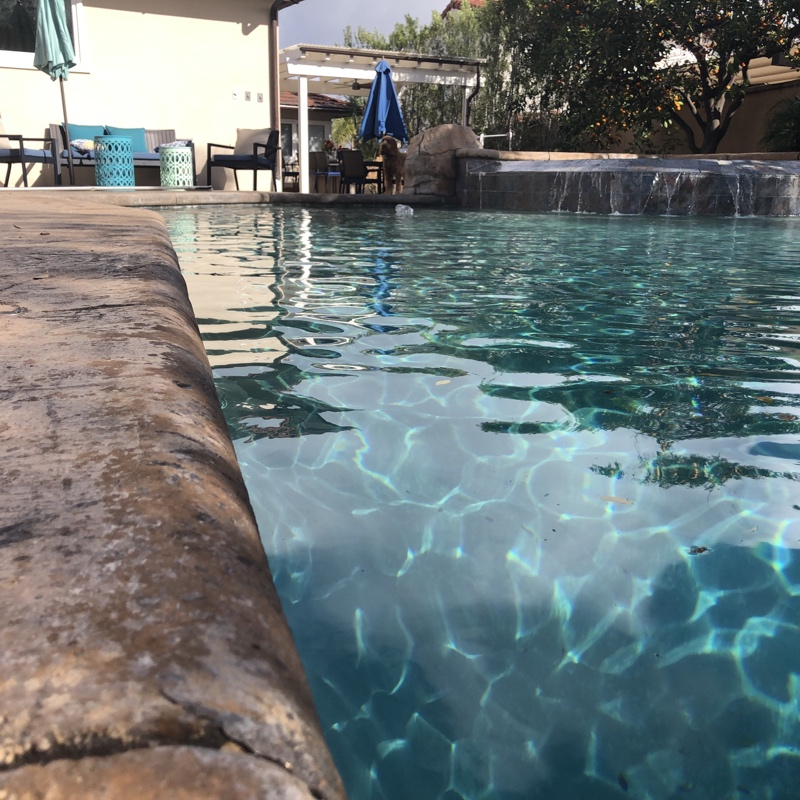Plastic Bottle: (395, 200, 411, 218)
